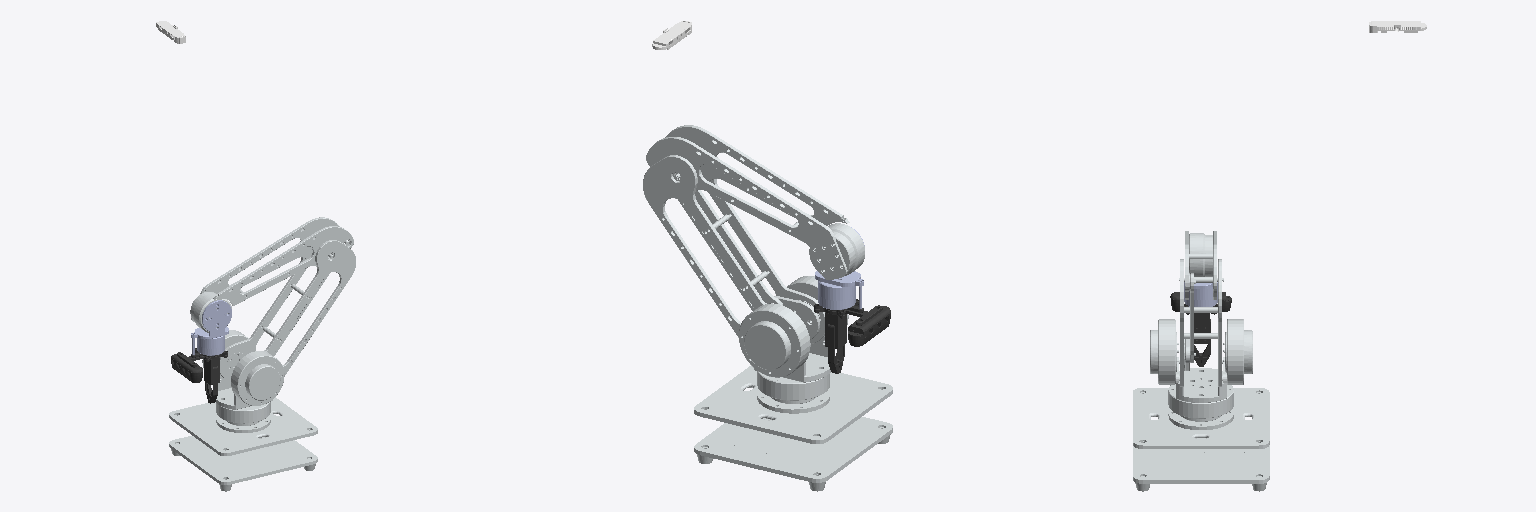
The robot description file, URDF, robot "robot_model":
<?xml version="1.0" encoding="utf-8"?>
<!-- This URDF was automatically created by SolidWorks to URDF Exporter! Originally created by [author] ([email redacted]) 
     Commit Version: 1.6.0-1-g15f4949  Build Version: 1.6.7594.29634
     For more information, please see http://wiki.ros.org/sw_urdf_exporter 
 	
-->
<robot
  name="robot_model">
  <link
    name="base_link">
    <inertial>
      <origin
        xyz="-0.000131636297794613 7.02596914331499E-06 0.0338094687504245"
        rpy="0 0 0" />
      <mass
        value="1.66666556846865" />
      <inertia
        ixx="0.00437827187549648"
        ixy="2.14594480928234E-07"
        ixz="-2.49805098024731E-07"
        iyy="0.00439499346492318"
        iyz="3.35617230888551E-11"
        izz="0.00870904082678681" />
    </inertial>
    <visual>
      <origin
        xyz="0 0 0"
        rpy="0 0 0" />
      <geometry>
        <mesh
          filename="package://robot_model/meshes/base_link.STL" />
      </geometry>
      <material
        name="">
        <color
          rgba="0.898039215686275 0.92156862745098 0.929411764705882 1" />
      </material>
    </visual>
    <collision>
      <origin
        xyz="0 0 0"
        rpy="0 0 0" />
      <geometry>
        <mesh
          filename="package://robot_model/meshes/base_link.STL" />
      </geometry>
    </collision>
  </link>
  <link
    name="link0">
    <inertial>
      <origin
        xyz="0.000363629284852396 -8.01265831462672E-10 0.0457448426539982"
        rpy="0 0 0" />
      <mass
        value="0.666445201573647" />
      <inertia
        ixx="0.000412550019033174"
        ixy="-1.68900279961288E-11"
        ixz="-2.32575027080551E-06"
        iyy="0.00062372122843286"
        iyz="3.05398155355703E-12"
        izz="0.000553779193680589" />
    </inertial>
    <visual>
      <origin
        xyz="0 0 0"
        rpy="0 0 0" />
      <geometry>
        <mesh
          filename="package://robot_model/meshes/link0.STL" />
      </geometry>
      <material
        name="">
        <color
          rgba="0.898039215686275 0.92156862745098 0.929411764705882 1" />
      </material>
    </visual>
    <collision>
      <origin
        xyz="0 0 0"
        rpy="0 0 0" />
      <geometry>
        <mesh
          filename="package://robot_model/meshes/link0.STL" />
      </geometry>
    </collision>
  </link>
  <joint
    name="joint0"
    type="revolute">
    <origin
      xyz="0 1.13891484690432E-05 0.0984999999999997"
      rpy="0 0 0" />
    <parent
      link="base_link" />
    <child
      link="link0" />
    <axis
      xyz="0 0 1" />
    <limit
      lower="-3.14"
      upper="3.14"
      effort="100"
      velocity="4.71" />
  </joint>
  <link
    name="link1">
    <inertial>
      <origin
        xyz="0.110344757740114 -0.0155985786176479 0.00660482093940962"
        rpy="0 0 0" />
      <mass
        value="0.288278803730323" />
      <inertia
        ixx="0.000125606334117149"
        ixy="2.53496493533052E-05"
        ixz="1.08830488413022E-06"
        iyy="0.00208095895946204"
        iyz="-5.26803978870406E-07"
        izz="0.00220149060357264" />
    </inertial>
    <visual>
      <origin
        xyz="0 0 0"
        rpy="0 0 0" />
      <geometry>
        <mesh
          filename="package://robot_model/meshes/link1.STL" />
      </geometry>
      <material
        name="">
        <color
          rgba="0.898039215686275 0.92156862745098 0.929411764705882 1" />
      </material>
    </visual>
    <collision>
      <origin
        xyz="0 0 0"
        rpy="0 0 0" />
      <geometry>
        <mesh
          filename="package://robot_model/meshes/link1.STL" />
      </geometry>
    </collision>
  </link>
  <joint
    name="joint1"
    type="revolute">
    <origin
      xyz="0 0 0.0615000000000387"
      rpy="1.5707963267949 -0.872664625997169 0" />
    <parent
      link="link0" />
    <child
      link="link1" />
    <axis
      xyz="0 0 -1" />
    <limit
      lower="-3.14"
      upper="3.14"
      effort="100"
      velocity="4.71" />
  </joint>
  <link
    name="link2">
    <inertial>
      <origin
        xyz="0.141071851982991 -0.00767566722177665 0.000783713211009396"
        rpy="0 0 0" />
      <mass
        value="0.284369824866304" />
      <inertia
        ixx="0.00010683278891044"
        ixy="1.81184652662601E-05"
        ixz="-1.07545193212654E-05"
        iyy="0.00104342416774835"
        iyz="-2.27065914728887E-06"
        izz="0.0011056018945833" />
    </inertial>
    <visual>
      <origin
        xyz="0 0 0"
        rpy="0 0 0" />
      <geometry>
        <mesh
          filename="package://robot_model/meshes/link2.STL" />
      </geometry>
      <material
        name="">
        <color
          rgba="0.898039215686275 0.92156862745098 0.929411764705882 1" />
      </material>
    </visual>
    <collision>
      <origin
        xyz="0 0 0"
        rpy="0 0 0" />
      <geometry>
        <mesh
          filename="package://robot_model/meshes/link2.STL" />
      </geometry>
    </collision>
  </link>
  <joint
    name="joint2"
    type="revolute">
    <origin
      xyz="0.249999999999947 0 0"
      rpy="-0.0426463239013774 0.0126960393145572 2.55810516514623" />
    <parent
      link="link1" />
    <child
      link="link2" />
    <axis
      xyz="-0.0126956982394545 -0.0426299622216388 0.999010262993927" />
    <limit
      lower="-3.14"
      upper="3.14"
      effort="100"
      velocity="4.71" />
  </joint>
  <link
    name="link3">
    <inertial>
      <origin
        xyz="-0.00205209217931762 -0.0472393303562962 0.00584737011822278"
        rpy="0 0 0" />
      <mass
        value="0.0930254450193935" />
      <inertia
        ixx="2.62720050229778E-05"
        ixy="-1.96866575858347E-07"
        ixz="-1.28268168149755E-07"
        iyy="2.89394359107394E-05"
        iyz="-3.86022747893895E-06"
        izz="2.9072487581479E-05" />
    </inertial>
    <visual>
      <origin
        xyz="0 0 0"
        rpy="0 0 0" />
      <geometry>
        <mesh
          filename="package://robot_model/meshes/link3.STL" />
      </geometry>
      <material
        name="">
        <color
          rgba="0.792156862745098 0.819607843137255 0.933333333333333 1" />
      </material>
    </visual>
    <collision>
      <origin
        xyz="0 0 0"
        rpy="0 0 0" />
      <geometry>
        <mesh
          filename="package://robot_model/meshes/link3.STL" />
      </geometry>
    </collision>
  </link>
  <joint
    name="joint3"
    type="revolute">
    <origin
      xyz="0.2363 0 0"
      rpy="-0.044495 0 2.8521" />
    <parent
      link="link2" />
    <child
      link="link3" />
    <axis
      xyz="0 0 1" />
    <limit
      lower="-3.14"
      upper="3.14"
      effort="100"
      velocity="4.71" />
  </joint>
  <link
    name="link4">
    <inertial>
      <origin
        xyz="-0.0116593849682437 -0.000312358319448425 -0.0419154123769662"
        rpy="0 0 0" />
      <mass
        value="0.103368342191545" />
      <inertia
        ixx="3.40939528292563E-05"
        ixy="-1.33662834284005E-09"
        ixz="6.92160848237382E-08"
        iyy="2.51079263870249E-05"
        iyz="1.48640433667129E-07"
        izz="2.95023857668393E-05" />
    </inertial>
    <visual>
      <origin
        xyz="0 0 0"
        rpy="0 0 0" />
      <geometry>
        <mesh
          filename="package://robot_model/meshes/link4.STL" />
      </geometry>
      <material
        name="">
        <color
          rgba="0.298039215686275 0.298039215686275 0.298039215686275 1" />
      </material>
    </visual>
    <collision>
      <origin
        xyz="0 0 0"
        rpy="0 0 0" />
      <geometry>
        <mesh
          filename="package://robot_model/meshes/link4.STL" />
      </geometry>
    </collision>
  </link>
  <joint
    name="joint4"
    type="revolute">
    <origin
      xyz="0 -0.06 0.003"
      rpy="-1.5708 0 0" />
    <parent
      link="link3" />
    <child
      link="link4" />
    <axis
      xyz="0 0 -1" />
    <limit
      lower="-3.14"
      upper="3.14"
      effort="100"
      velocity="4.71" />
  </joint>
  <link
    name="link5">
    <inertial>
      <origin
        xyz="0.00474999999999998 -0.00100000000000211 0.0288668314717897"
        rpy="0 0 0" />
      <mass
        value="0.019352363175795" />
      <inertia
        ixx="1.067099283993E-05"
        ixy="2.51356317742419E-22"
        ixz="3.69172823560365E-20"
        iyy="1.04430267545089E-05"
        iyz="3.36695596533583E-20"
        izz="5.11528560189935E-07" />
    </inertial>
    <visual>
      <origin
        xyz="0 0 0"
        rpy="0 0 0" />
      <geometry>
        <mesh
          filename="package://robot_model/meshes/link5.STL" />
      </geometry>
      <material
        name="">
        <color
          rgba="0.298039215686275 0.298039215686275 0.298039215686275 1" />
      </material>
    </visual>
    <collision>
      <origin
        xyz="0 0 0"
        rpy="0 0 0" />
      <geometry>
        <mesh
          filename="package://robot_model/meshes/link5.STL" />
      </geometry>
    </collision>
  </link>
  <joint
    name="joint5"
    type="fixed">
    <origin
      xyz="-0.00355 0.001 -0.11365"
      rpy="0 0 0" />
    <parent
      link="link4" />
    <child
      link="link5" />
    <axis
      xyz="0 0 0" />
  </joint>
  <link
    name="camera_link">
    <inertial>
      <origin
        xyz="0.00104272897382057 0.00414306828907618 0.012121995721127"
        rpy="0 0 0" />
      <mass
        value="0.0100342082429161" />
      <inertia
        ixx="6.54105953770491E-06"
        ixy="-1.08039447785454E-07"
        ixz="-9.3597651292331E-09"
        iyy="4.38200169313778E-07"
        iyz="-2.70958970491522E-09"
        izz="6.26627356918872E-06" />
    </inertial>
    <visual>
      <origin
        xyz="0 0 0"
        rpy="0 0 0" />
      <geometry>
        <mesh
          filename="package://robot_model/meshes/camera_link.STL" />
      </geometry>
      <material
        name="">
        <color
          rgba="1 1 1 1" />
      </material>
    </visual>
    <collision>
      <origin
        xyz="0 0 0"
        rpy="0 0 0" />
      <geometry>
        <mesh
          filename="package://robot_model/meshes/camera_link.STL" />
      </geometry>
    </collision>
  </link>
  <joint
    name="camera_joint"
    type="fixed">
    <origin
      xyz="-0.0334500000000004 -0.001 0.0795962742299688"
      rpy="3.14159265358979 1.5707963267949 0" />
    <parent
      link="link5" />
    <child
      link="camera_link" />
    <axis
      xyz="0 0 0" />
  </joint>
   <link
    name="camera_w_link">
    <inertial>
      <origin
        xyz="0 0 0"
        rpy="0 0 0" />
      <mass
        value="0.0217503518270926" />
      <inertia
        ixx="1.4619649872208E-05"
        ixy="1.48641236989376E-07"
        ixz="-2.38528420837063E-09"
        iyy="1.5421650649621E-06"
        iyz="-1.37020239720595E-09"
        izz="1.36425814239711E-05" />
    </inertial>
    <visual>
      <origin
        xyz="0 0 0"
        rpy="0 0 0" />
      <geometry>
        <mesh
          filename="package://dualarm/meshes/camera_link.STL" />
      </geometry>
      <material
        name="">
        <color
          rgba="1 1 1 1" />
      </material>
    </visual>
    <collision>
      <origin
        xyz="0 0 0"
        rpy="0 0 0" />
      <geometry>
        <mesh
          filename="package://robot_model/meshes/camera_link.STL" />
      </geometry>
    </collision>
  </link>
  <joint
    name="camera_w_joint"
    type="fixed">
    <origin
      xyz="0.03 0.2872 0.6943" 
      rpy="0 1.5708 3.1416" />
    <parent
      link="base_link" />
    <child
      link="camera_w_link" />
    <axis
      xyz="0 0 0" />
    <limit
      lower="0"
      upper="0"
      effort="0"
      velocity="0" />
  </joint>
</robot>

--- Facts derived from the render (not from the file) ---
Views: 3 orthographic renders of the robot side by side, from view 1: azimuth 30°, elevation 25°; view 2: azimuth 150°, elevation 25°; view 3: azimuth 270°, elevation 25°.
Robot: robot_model — 9 links, 8 joints (5 revolute, 3 fixed); root link base_link; default pose: every joint at zero.
Visible links, largest first — view 1: base_link, link1, link2, link0, link3, link4; view 2: base_link, link2, link1, link0, link4, link3, camera_w_link, link5; view 3: base_link, link0, link1, link2, link4, camera_w_link, link3.
Boxes of the visible links, box(x1,y1,x2,y2) form: base_link: box(169, 397, 317, 491); link1: box(220, 240, 355, 380); link2: box(190, 217, 353, 332); link0: box(202, 330, 284, 409); link3: box(191, 300, 231, 355); link4: box(171, 348, 227, 384); base_link: box(694, 366, 892, 491); link2: box(646, 125, 864, 279); link1: box(643, 155, 824, 343); link0: box(739, 276, 848, 382); link4: box(814, 299, 890, 349); link3: box(815, 227, 864, 309); camera_w_link: box(652, 21, 691, 49); link5: box(828, 324, 844, 373); base_link: box(1133, 384, 1269, 491); link0: box(1150, 319, 1252, 402); link1: box(1180, 259, 1221, 386); link2: box(1179, 231, 1223, 299); link4: box(1170, 292, 1231, 343); camera_w_link: box(1369, 21, 1426, 32); link3: box(1184, 282, 1217, 306).
Size in the robot's own frame: 0.339 by 0.4303 by 0.7219 metres.
Meshes: 9 distinct files referenced, 9 mesh visuals loaded (8 binary STL).